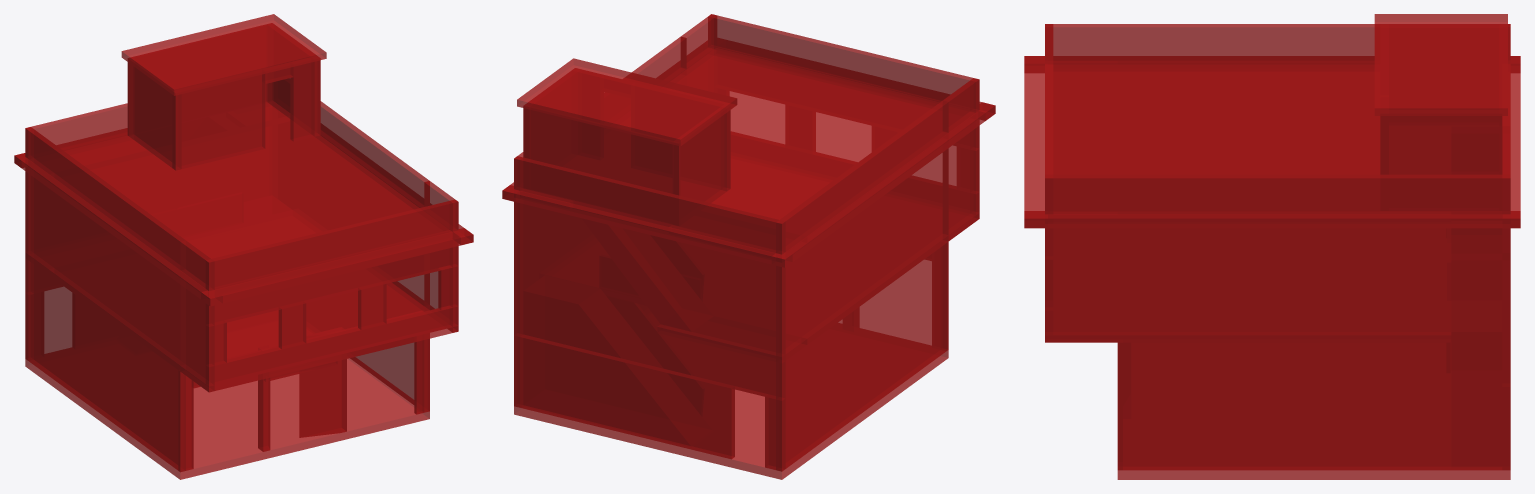
Rendered from SM_Bld_Shop_11_Collision.fbx.
The picture shows the model from 3 angles, left to right: view 1: azimuth 30°, elevation 25°; view 2: azimuth 150°, elevation 25°; view 3: azimuth 270°, elevation 25°; orthographic projection. The views are drawn at different scales.
Parts seen in each view (by area): view 1: SM_Bld_Shop_11_Collision; view 2: SM_Bld_Shop_11_Collision; view 3: SM_Bld_Shop_11_Collision.
Part boxes in pixels (x1,y1,x2,y2): SM_Bld_Shop_11_Collision: [14, 14, 473, 479]; SM_Bld_Shop_11_Collision: [502, 14, 995, 479]; SM_Bld_Shop_11_Collision: [1024, 14, 1520, 479].
Size of the model in its own units: 945 by 1005 by 1220.
